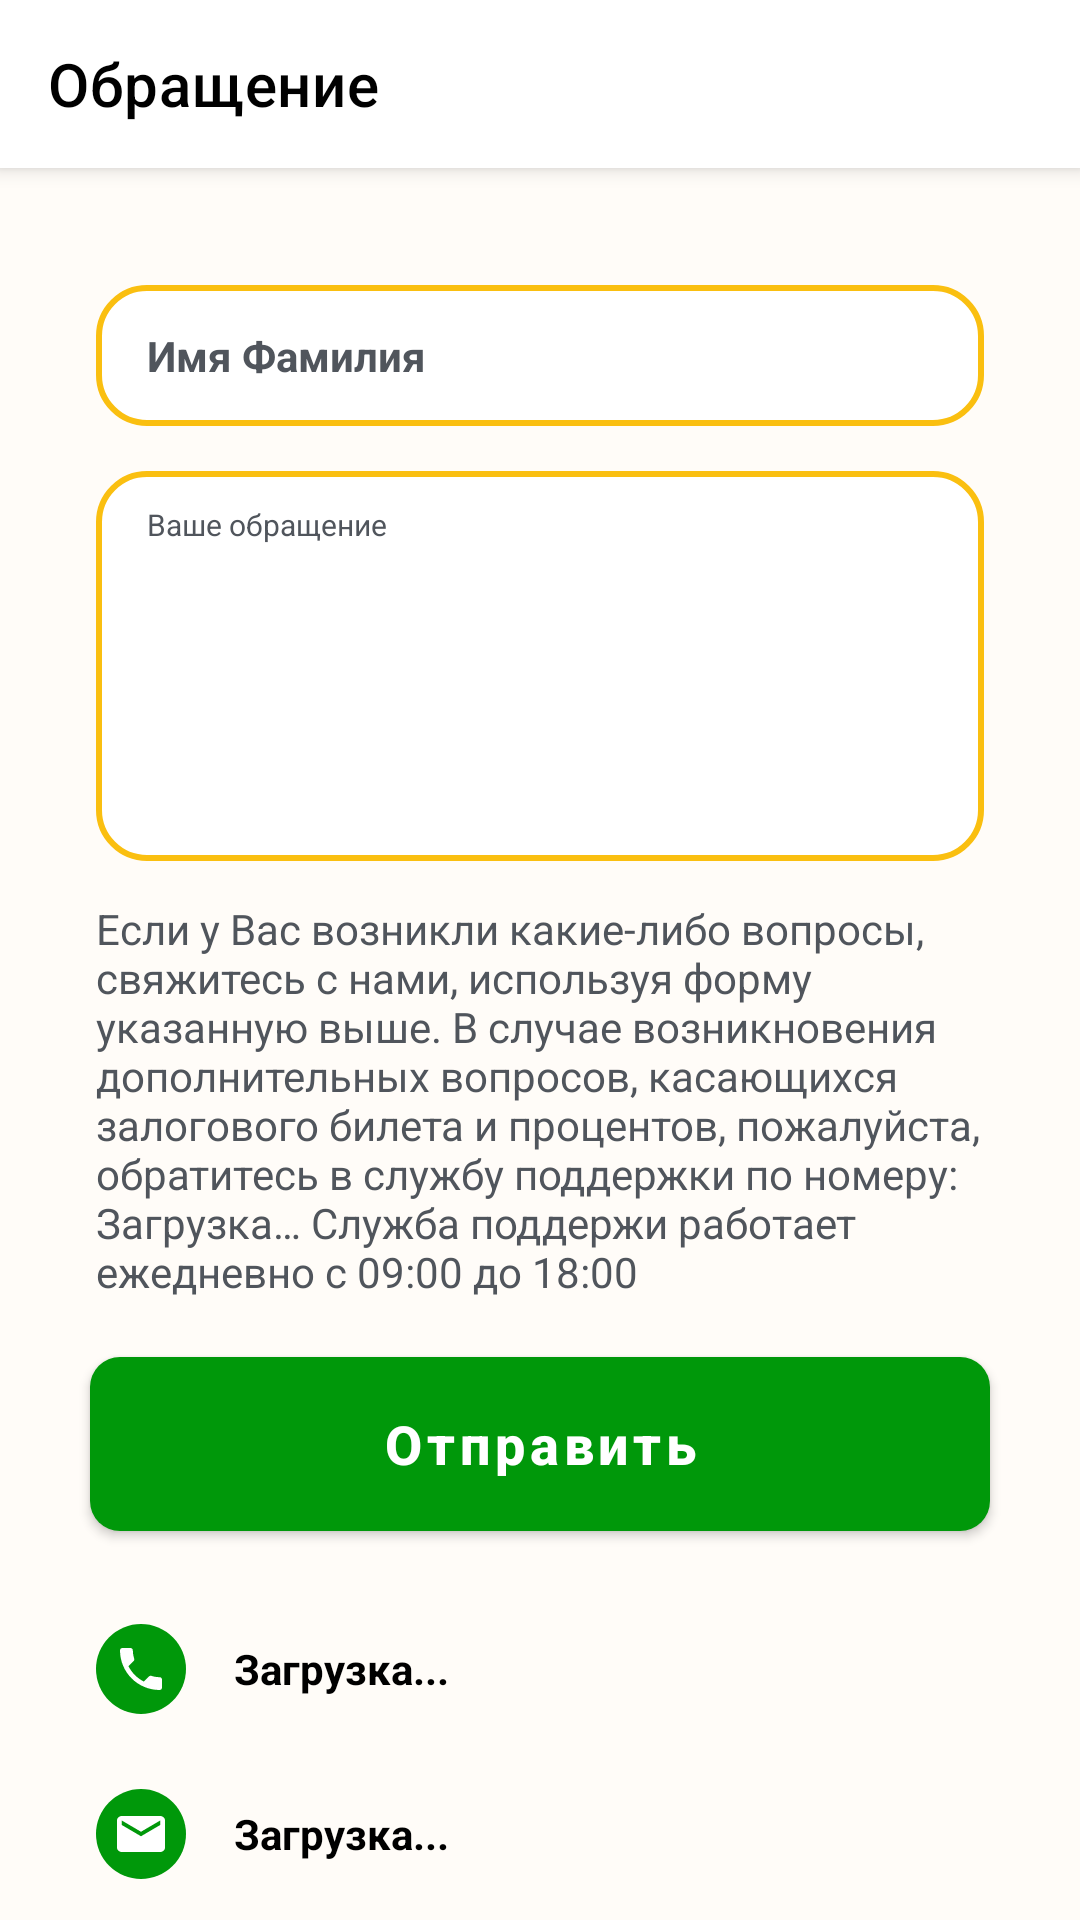

Point at icon controls on the screen. Image size 1080×1920, points as [x,y].
call: [141,1669]
